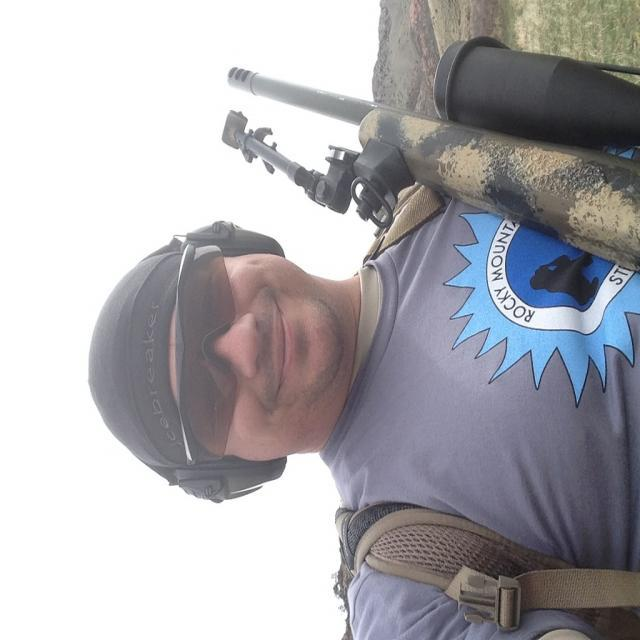weapon: (228, 73, 640, 268)
